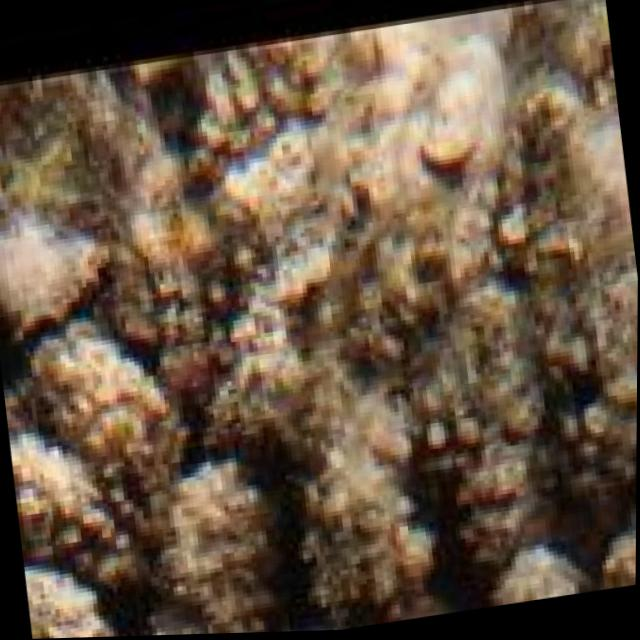Dead Coral: (25, 285, 638, 639)
